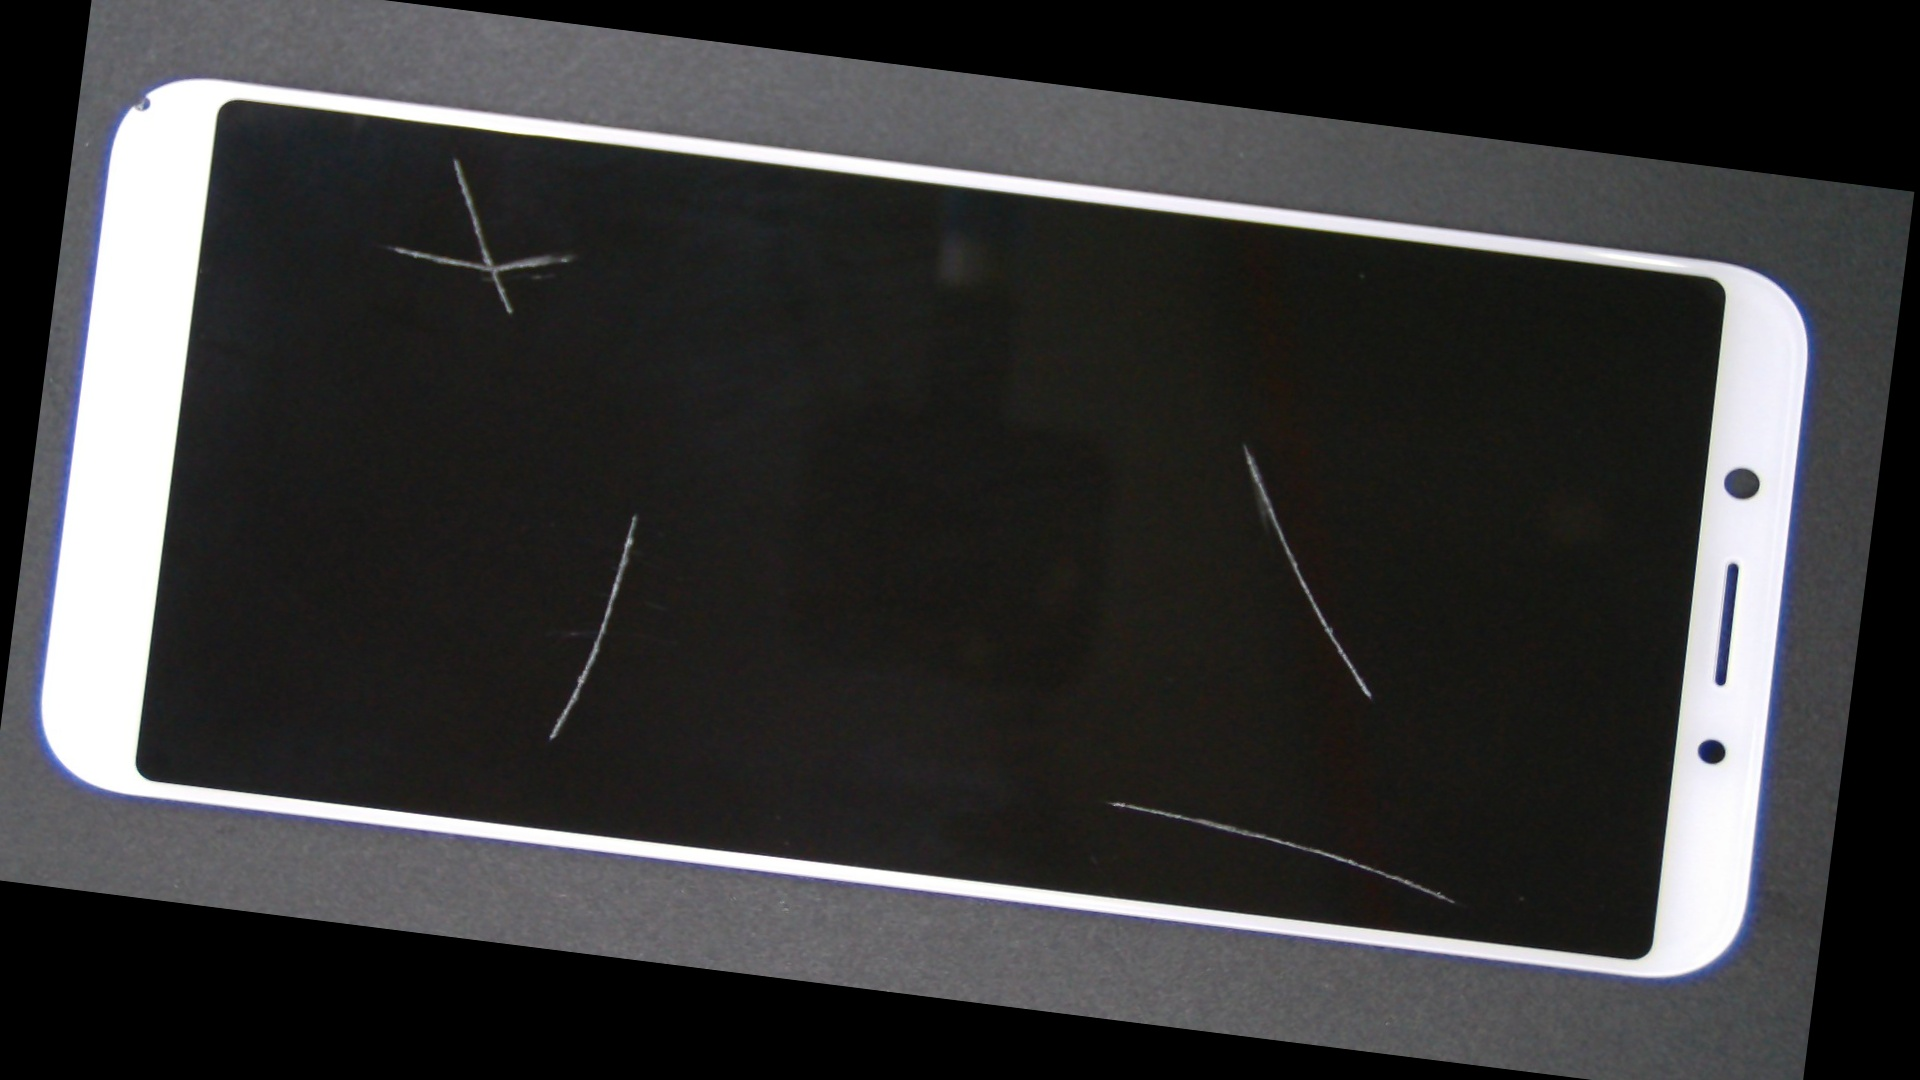oil: (537, 382, 1714, 1080), (628, 203, 1858, 686), (307, 239, 964, 787), (257, 59, 651, 251)
